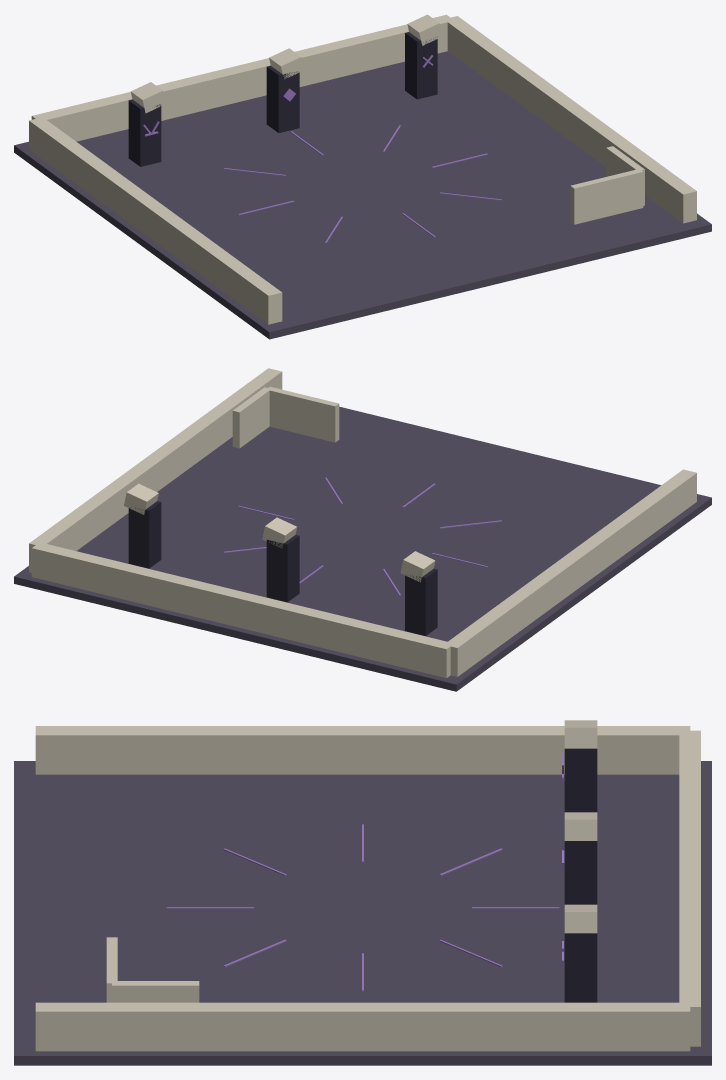
Rendered from warden_seals.glb.
The picture shows the model from 3 angles, top to bottom: view 1: azimuth 30°, elevation 25°; view 2: azimuth 150°, elevation 25°; view 3: azimuth 270°, elevation 25°; orthographic projection. The views are drawn at different scales.
Visible parts, largest first — view 1: warden_seals; view 2: warden_seals; view 3: warden_seals.
Boxes of the visible parts, x1,y1,x2,y2 form: warden_seals: [14, 14, 711, 339]; warden_seals: [14, 368, 711, 691]; warden_seals: [14, 720, 711, 1065].
Bounding box in the file's own units: 64 × 10.79 × 64.
